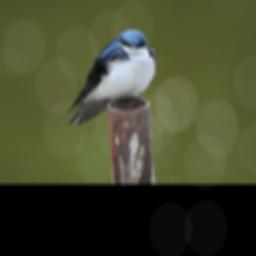Swallow: (65, 28, 158, 126)
